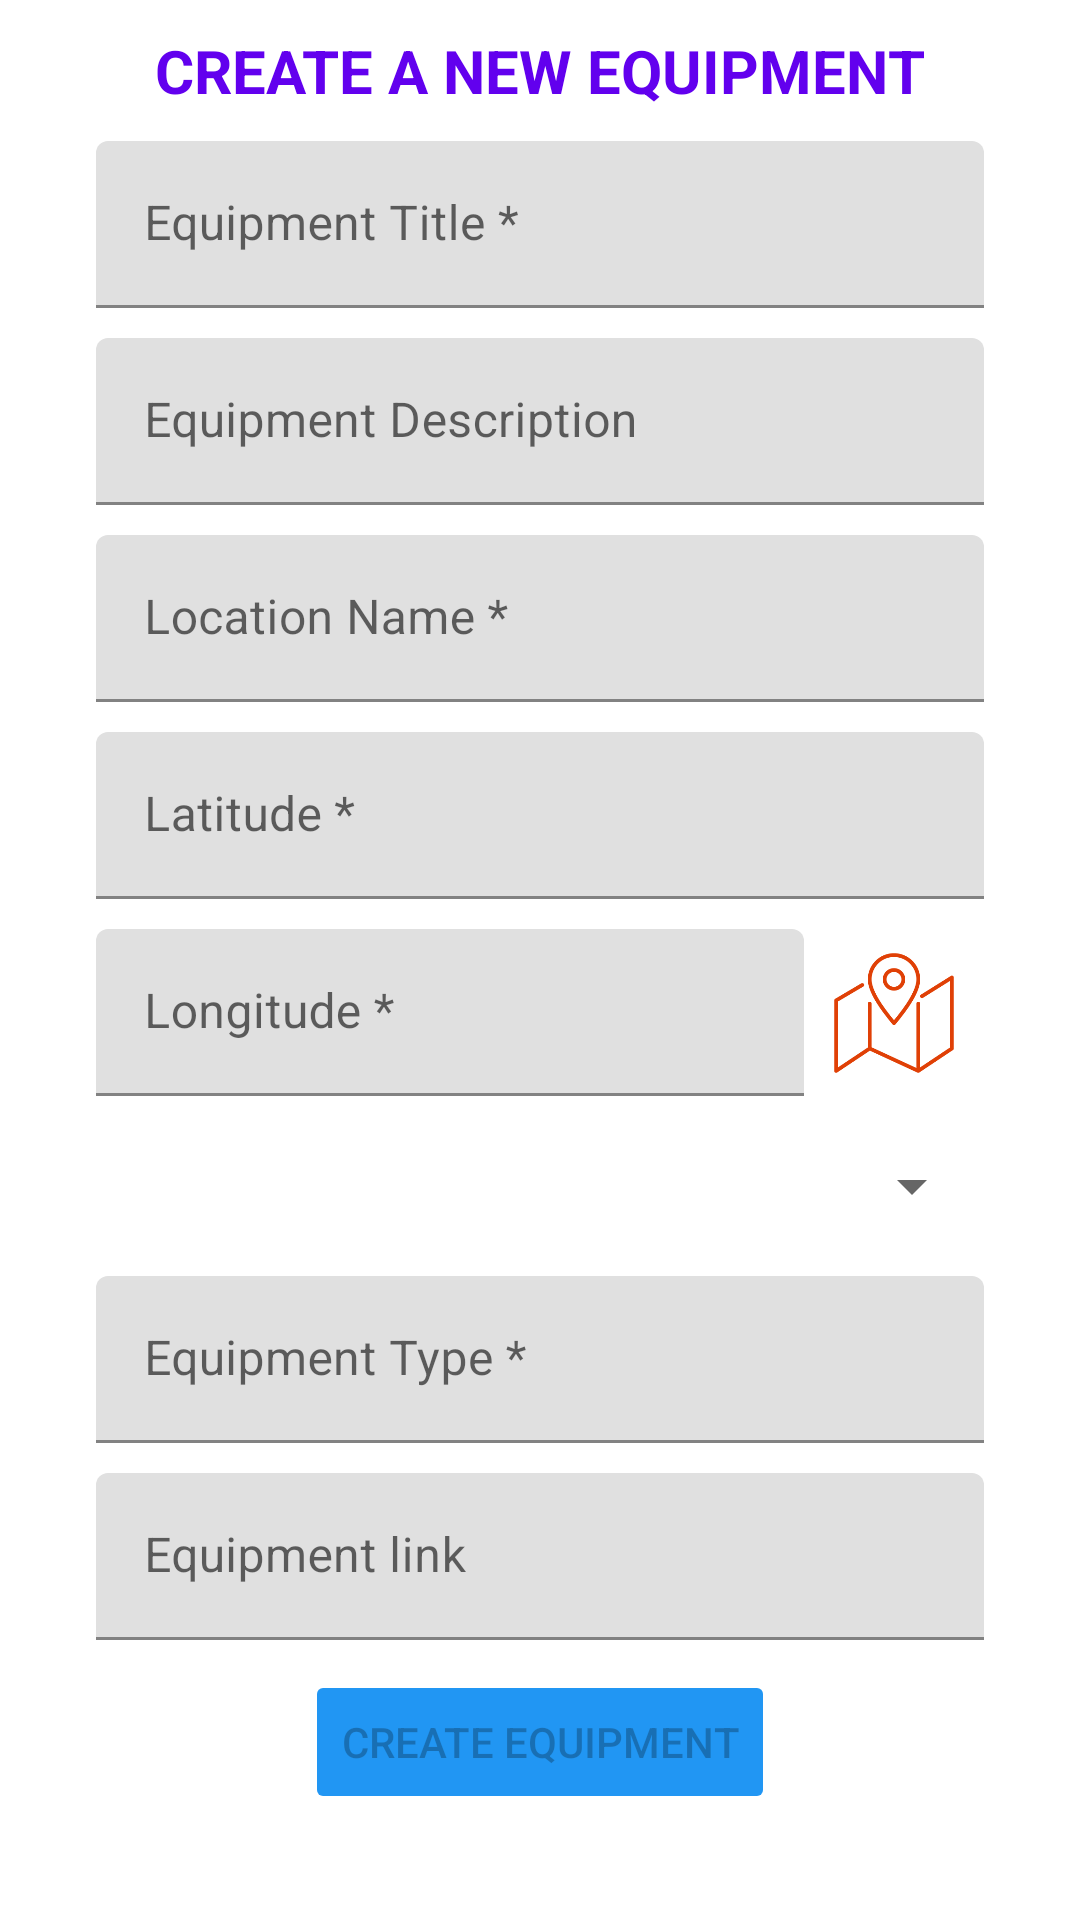

Icon click points for this 1080 x 1920 phone screenshot, format (x,y):
map: (894,1013)
